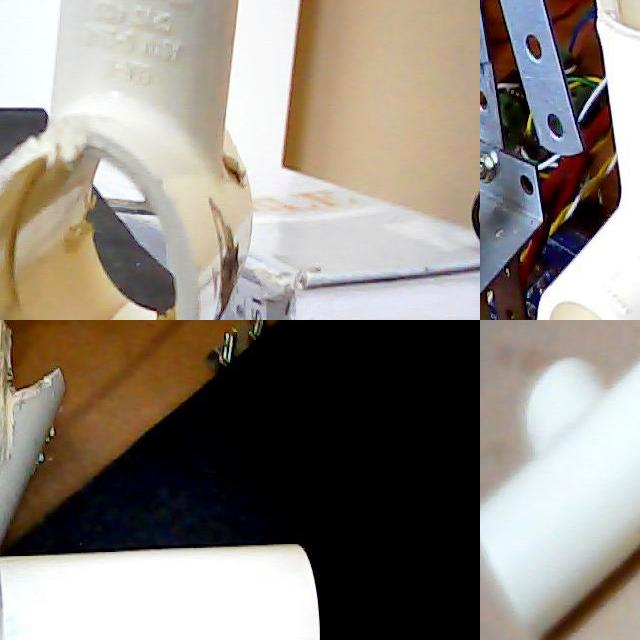Defective: (0, 115, 90, 290), (0, 320, 74, 439), (191, 200, 237, 320), (200, 126, 248, 212), (138, 287, 187, 320)
T Joint: (480, 357, 640, 640), (0, 544, 321, 640)
